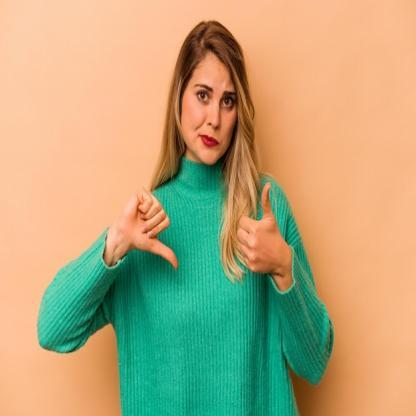thumb_down: (124, 183, 180, 276)
thumb_up: (235, 180, 284, 280)
